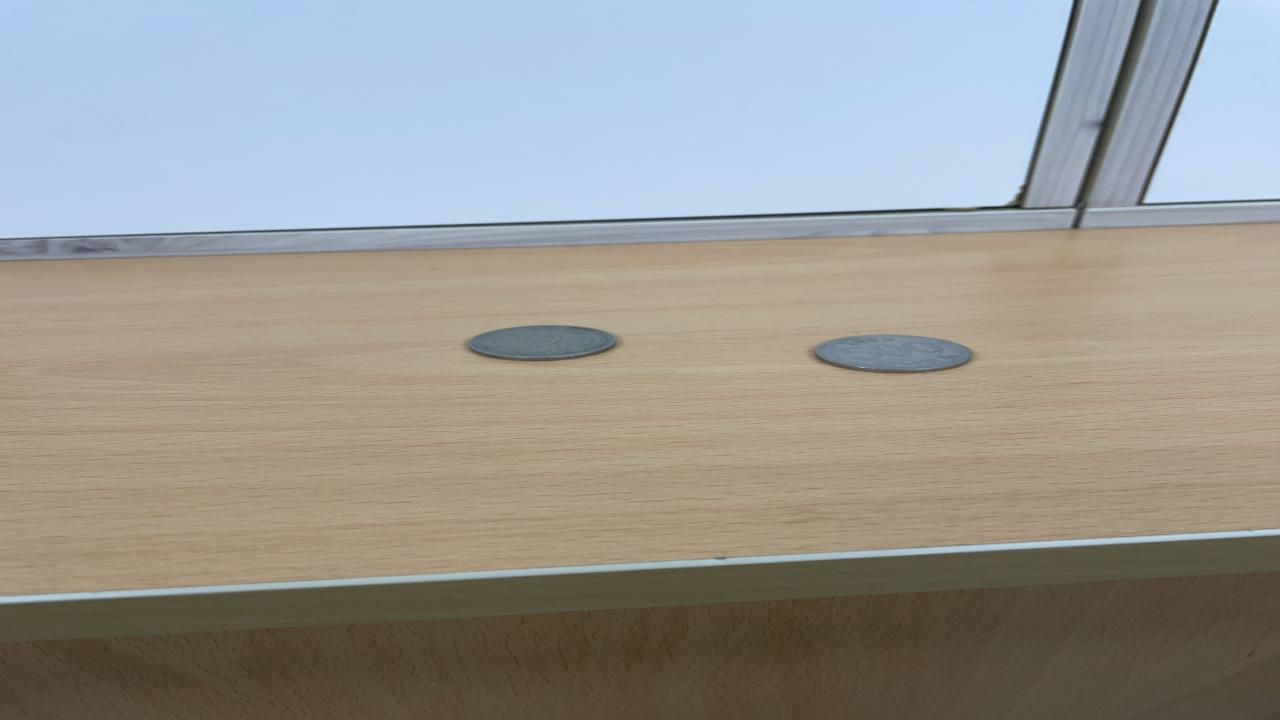coin: (808, 332, 975, 375), (460, 322, 618, 364)
